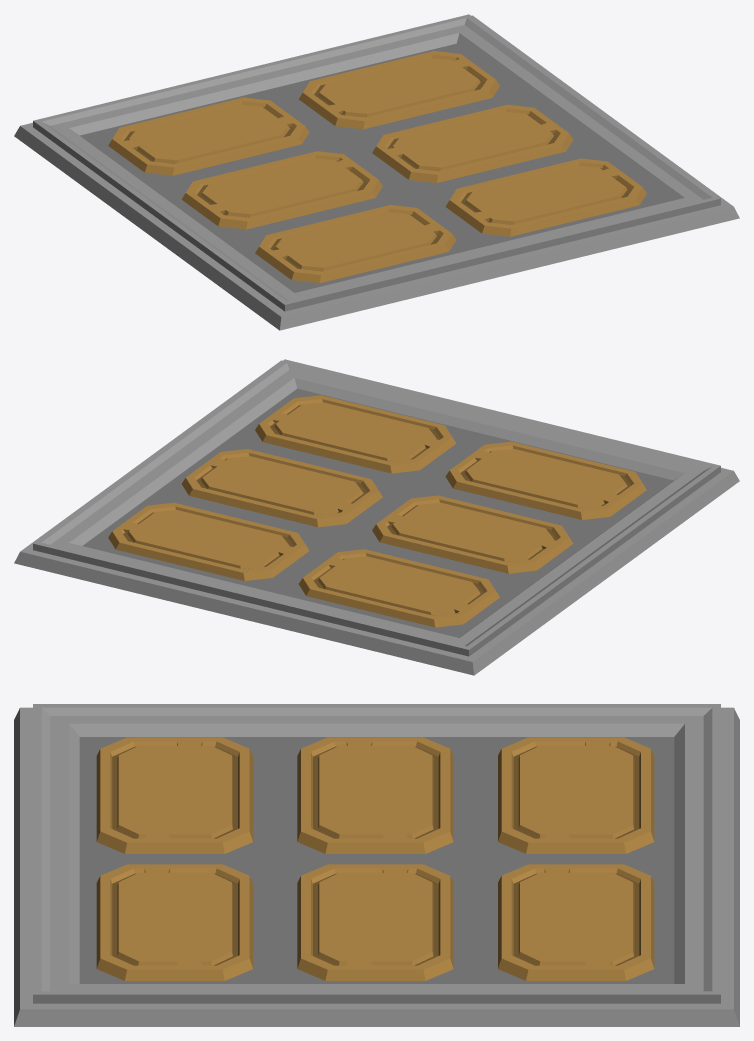
Rendered from RoofTile_Details.glb.
3 renders of one model, top to bottom at view 1: azimuth 30°, elevation 25°; view 2: azimuth 150°, elevation 25°; view 3: azimuth 270°, elevation 25°, orthographic. The views are drawn at different scales.
Visible parts, largest first — view 1: RoofTile_Details; view 2: RoofTile_Details; view 3: RoofTile_Details.
Part boxes in pixels (x1,y1,x2,y2): RoofTile_Details: (14, 14, 739, 330); RoofTile_Details: (14, 359, 739, 675); RoofTile_Details: (14, 704, 739, 1026).
Size of the model in its own units: 2 by 0.0805 by 2.
